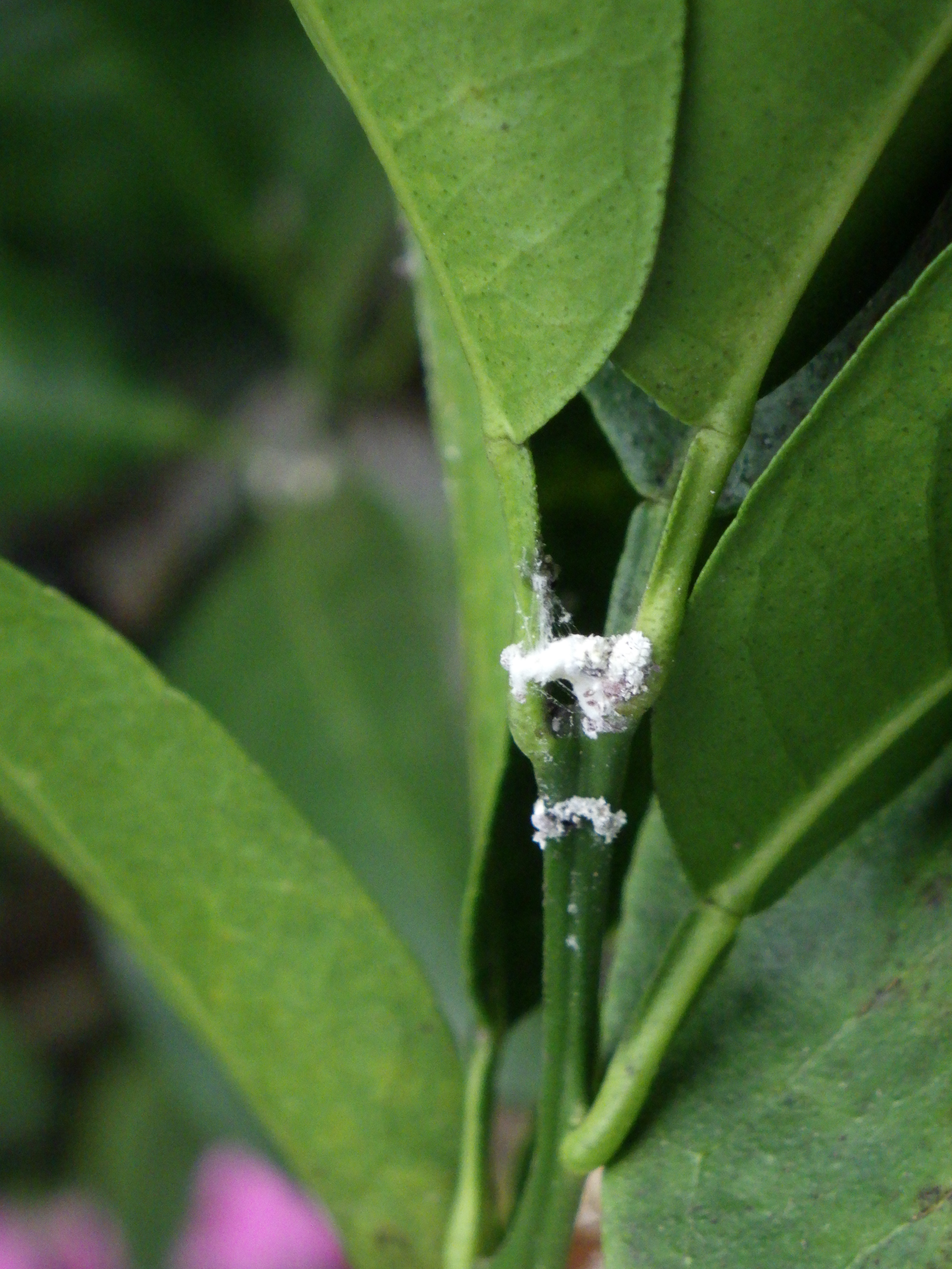Scale_Insect: (500, 631, 651, 738)
